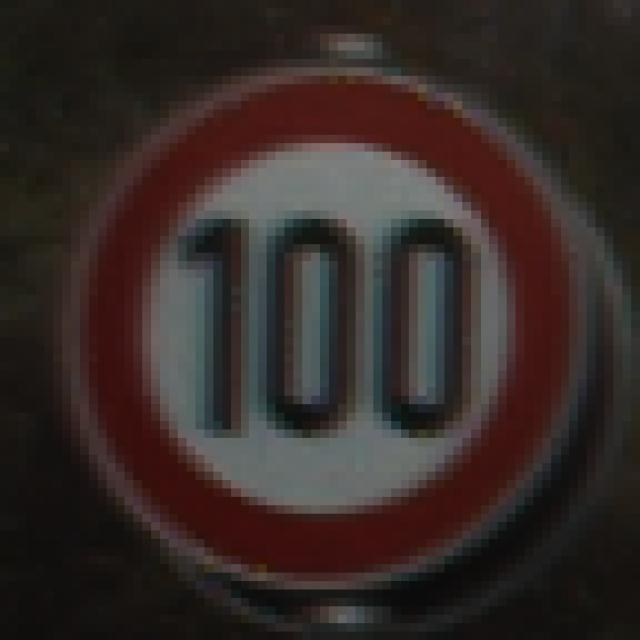speed limit 100: (62, 66, 586, 585)
